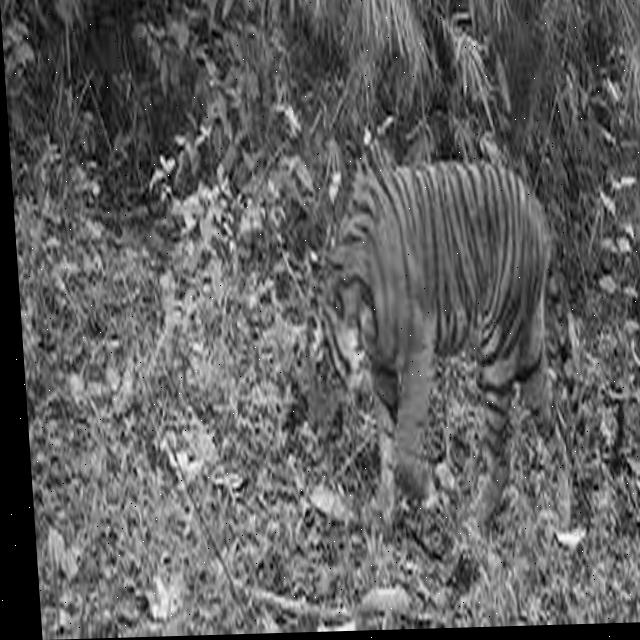Tiger: (282, 132, 600, 548)
